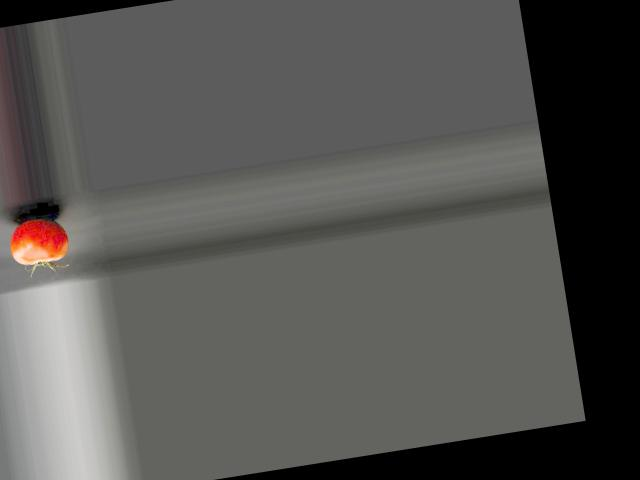tomato: (5, 215, 70, 267)
